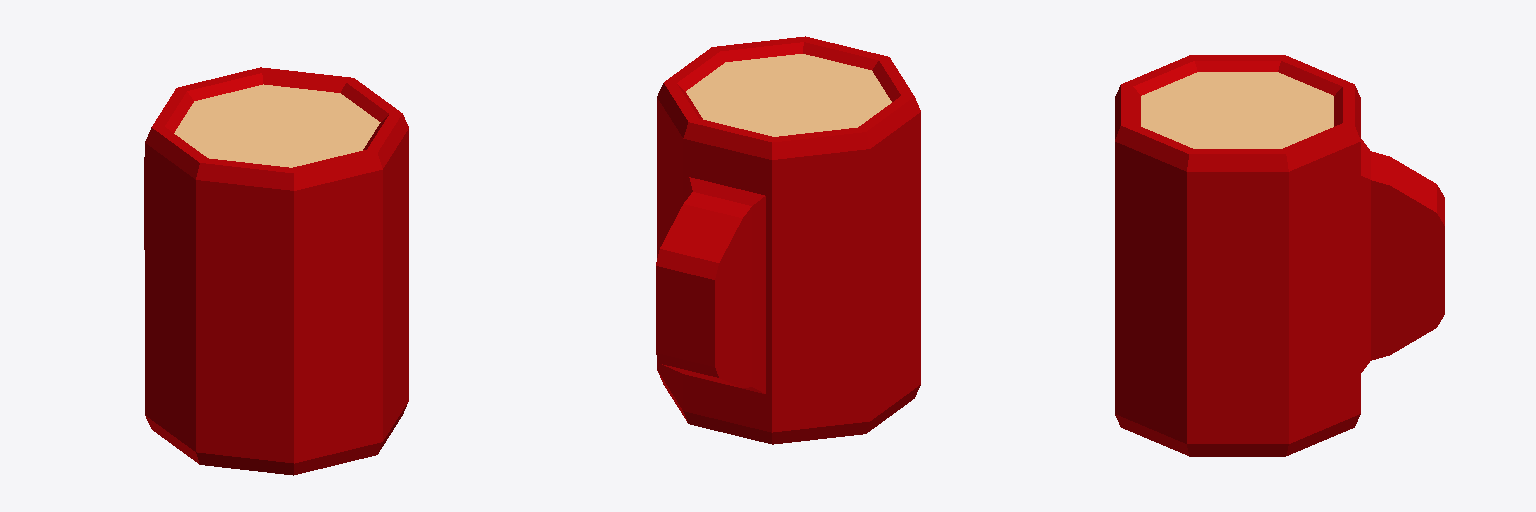
The model's file is tankard.obj.
3 views of the same model, side by side, from view 1: azimuth 30°, elevation 25°; view 2: azimuth 150°, elevation 25°; view 3: azimuth 270°, elevation 25° (orthographic).
Visible parts, largest first — view 1: Circle; view 2: Circle; view 3: Circle.
Boxes of the visible parts, x1=… form: Circle: x1=144, y1=67, x2=408, y2=475; Circle: x1=656, y1=36, x2=920, y2=444; Circle: x1=1115, y1=55, x2=1444, y2=456.
Bounding box in the file's own units: 1.85 × 2.5 × 2.48.